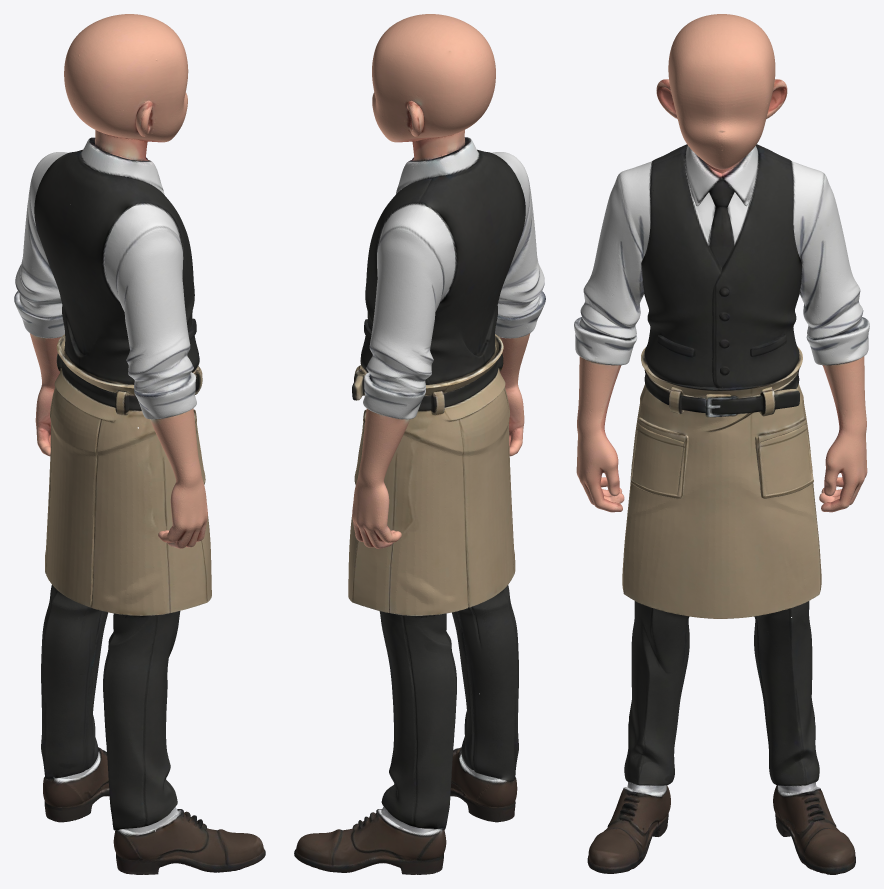
Rendered from uniformed+waiter+3d+model.glb.
3 renders of one model, left to right at view 1: azimuth 30°, elevation 25°; view 2: azimuth 150°, elevation 25°; view 3: azimuth 270°, elevation 25°, orthographic.
Parts seen in each view (by area): view 1: tripo_node_cc056f84-e62b-42bf-bba1-0b9d034b7705; view 2: tripo_node_cc056f84-e62b-42bf-bba1-0b9d034b7705; view 3: tripo_node_cc056f84-e62b-42bf-bba1-0b9d034b7705.
Boxes of the visible parts, bbox=[...] form: tripo_node_cc056f84-e62b-42bf-bba1-0b9d034b7705: bbox=[14, 14, 265, 874]; tripo_node_cc056f84-e62b-42bf-bba1-0b9d034b7705: bbox=[294, 14, 545, 874]; tripo_node_cc056f84-e62b-42bf-bba1-0b9d034b7705: bbox=[574, 14, 869, 874].
Bounding box in the file's own units: 0.1862 × 0.9996 × 0.3278.
1 material, 1 textured.
